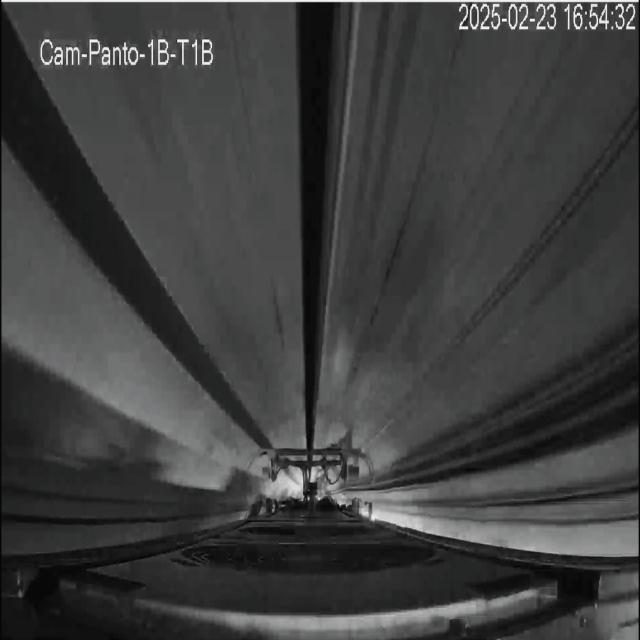Camera Stamp: (33, 26, 219, 71)
Date Stamp: (458, 3, 636, 33)
No - Spark: (231, 367, 376, 500), (163, 425, 273, 503), (316, 333, 360, 409)
